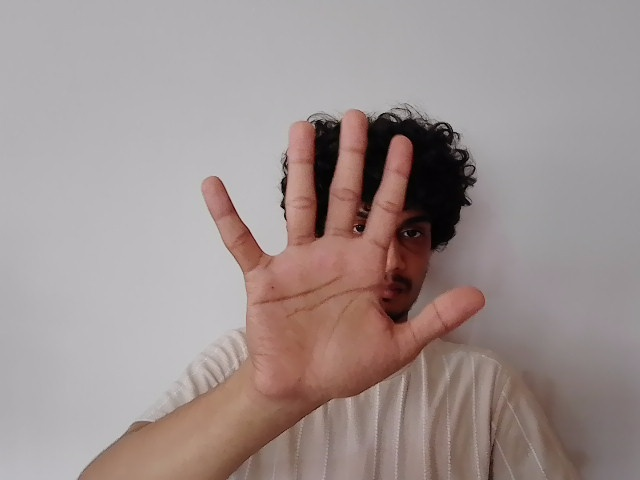goodbye: (200, 110, 485, 391)
